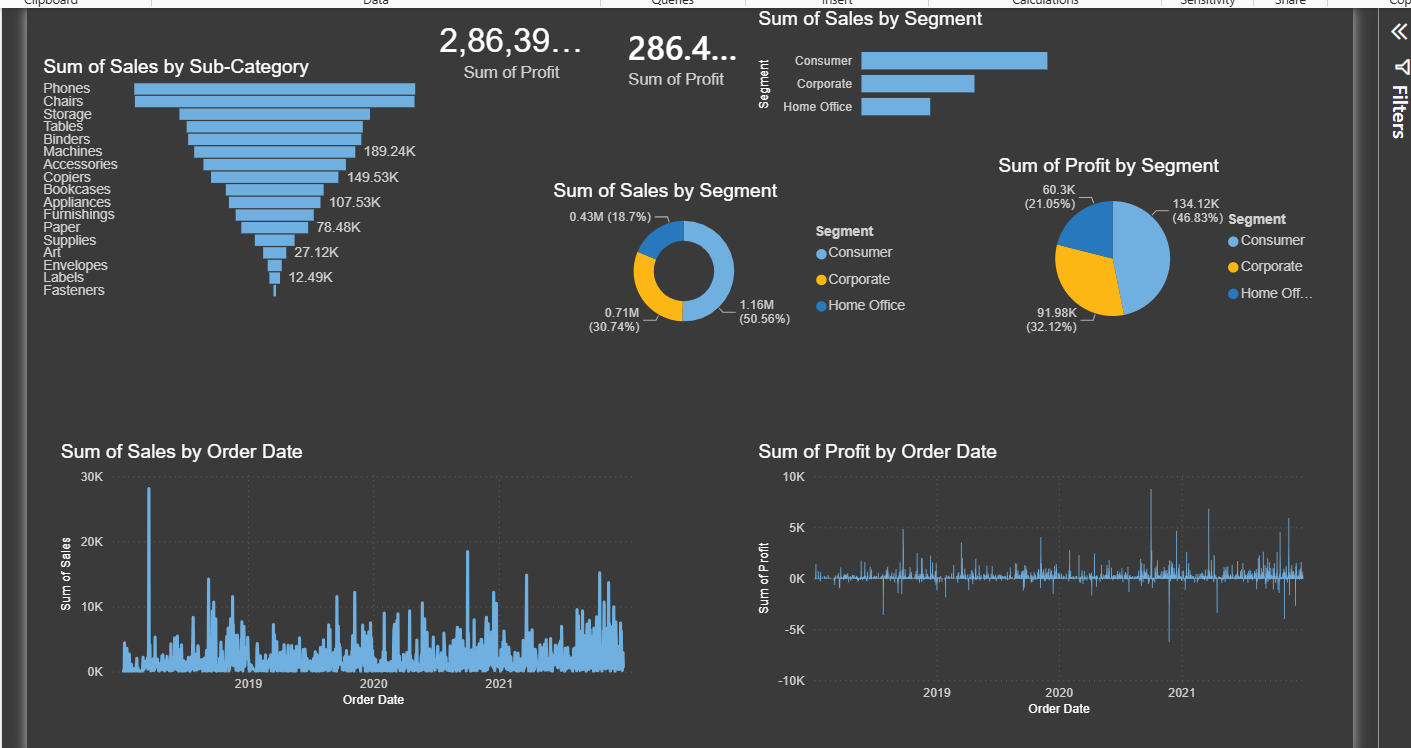

Layout of this report page (visuals, bound fields, positions):
{"tool":"powerbi","page":{"name":"Page 1","canvas":[1280,720],"ordinal":0},"visuals":[{"type":"funnel","fields":{"Category":["Orders.Sub-Category"],"Y":["Sum(Orders.Sales)"]},"box":[10.9,45.8,374,238.9],"z":0},{"type":"lineChart","fields":{"Category":["Orders.Order Date"],"Y":["Sum(Orders.Sales)"]},"box":[27.7,417.4,567,261.8],"z":1000},{"type":"card","fields":{"Values":["Sum(Orders.Profit)"]},"box":[384.3,0,165.7,78.6],"z":2000},{"type":"cardVisual","fields":{"Data":["Sum(Orders.Profit)"]},"box":[550,0,172.9,92.9],"z":3000},{"type":"clusteredBarChart","fields":{"Category":["Orders.Segment"],"Y":["Sum(Orders.Sales)"]},"box":[701.4,0,341.4,118.6],"z":4000},{"type":"donutChart","fields":{"Category":["Orders.Segment"],"Y":["Sum(Orders.Sales)"]},"box":[503.1,165.3,358.3,156.8],"z":5000},{"type":"pieChart","fields":{"Category":["Orders.Segment"],"Y":["Sum(Orders.Profit)"]},"box":[932.6,141.2,326.9,181],"z":6000},{"type":"ribbonChart","fields":{"Category":["Orders.Order Date"],"Y":["Sum(Orders.Profit)"]},"box":[700.9,417.4,550.1,270.2],"z":7000}]}

Visuals, with their boxes on the page's 1280x720 design canvas (x1, y1, x2, y2). These are canvas units, not pixel positions in the 1411x748 screenshot, which may show the page scaled, cropped or inside an application window:
funnel - Orders.Sub-Category x Sum(Orders.Sales): left=11, top=46, right=385, bottom=285
lineChart - Orders.Order Date x Sum(Orders.Sales): left=28, top=417, right=595, bottom=679
card - Sum(Orders.Profit): left=384, top=0, right=550, bottom=79
cardVisual - Sum(Orders.Profit): left=550, top=0, right=723, bottom=93
clusteredBarChart - Orders.Segment x Sum(Orders.Sales): left=701, top=0, right=1043, bottom=119
donutChart - Orders.Segment x Sum(Orders.Sales): left=503, top=165, right=861, bottom=322
pieChart - Orders.Segment x Sum(Orders.Profit): left=933, top=141, right=1260, bottom=322
ribbonChart - Orders.Order Date x Sum(Orders.Profit): left=701, top=417, right=1251, bottom=688
